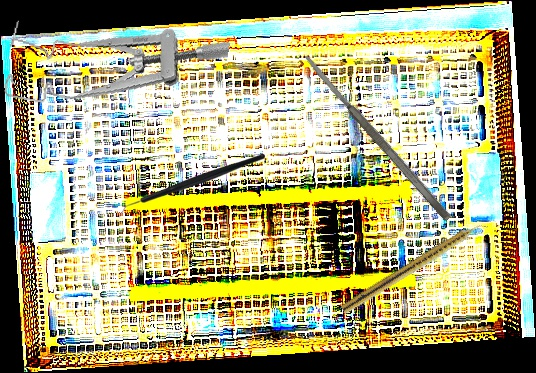Chopper: (118, 154, 265, 218)
Handpiece: (339, 216, 490, 318)
Spatula Surgical: (300, 50, 454, 224)
Speculum: (1, 1, 231, 135)
